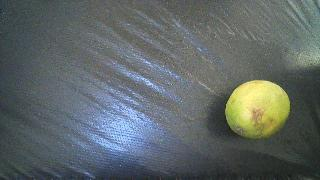DESECHO: (225, 80, 290, 139)
